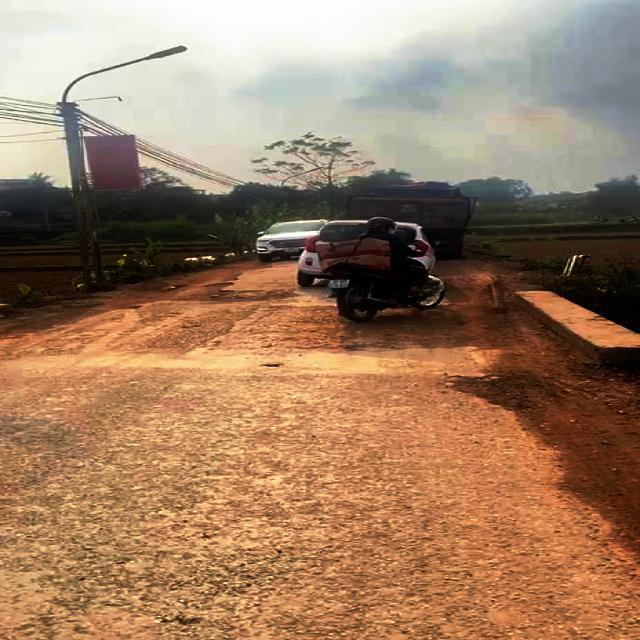pothole: (442, 372, 552, 408), (145, 283, 302, 306)
